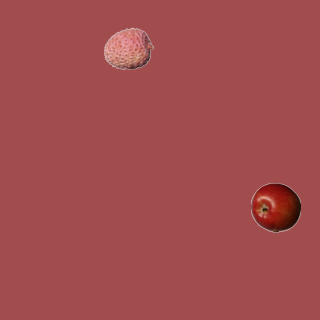Apple Braeburn: (250, 182, 300, 232)
Lychee: (103, 23, 153, 73)
